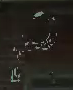Parking: (9, 6, 58, 89)
